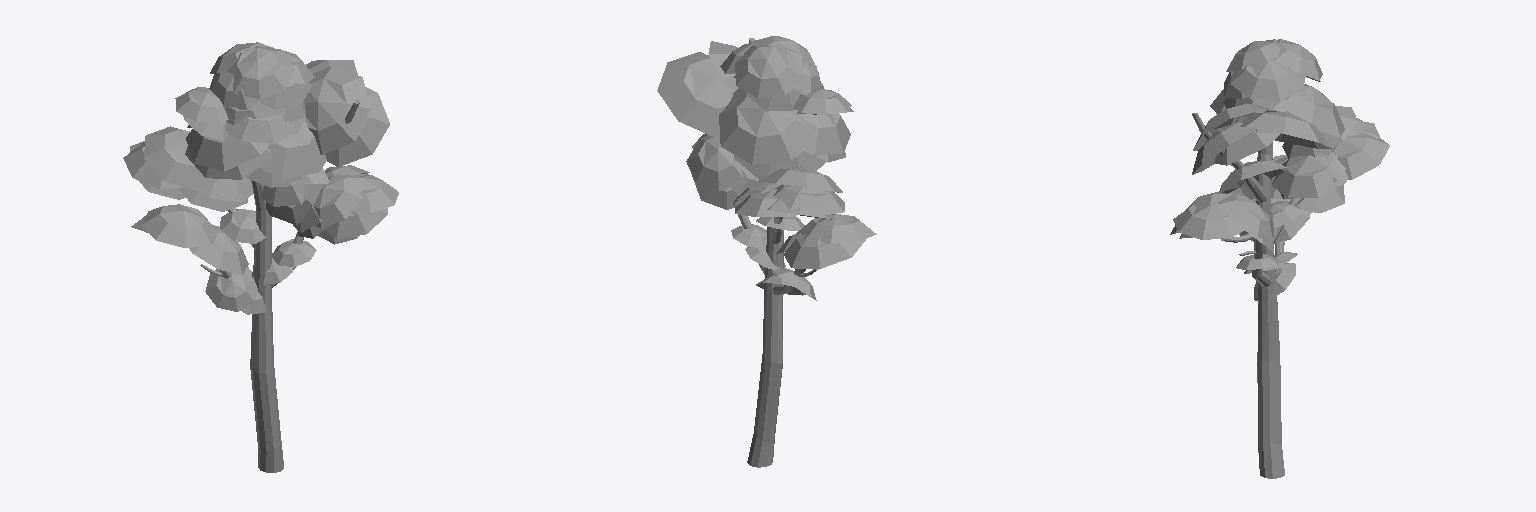
The model's file is Birch_1.obj.
3 renders of one model, left to right at view 1: azimuth 30°, elevation 25°; view 2: azimuth 150°, elevation 25°; view 3: azimuth 270°, elevation 25°, orthographic.
Parts seen in each view (by area): view 1: Birch_1_Cylinder.049; view 2: Birch_1_Cylinder.049; view 3: Birch_1_Cylinder.049.
Part boxes in pixels (x1,y1,x2,y2): Birch_1_Cylinder.049: (123, 42, 398, 472); Birch_1_Cylinder.049: (657, 36, 876, 467); Birch_1_Cylinder.049: (1170, 39, 1389, 478).
Bounding box in the file's own units: 4.89 × 9.48 × 4.46.